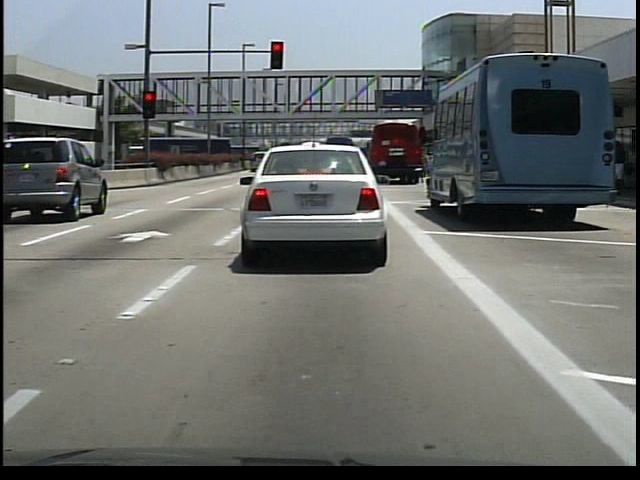person: (612, 144, 627, 193)
